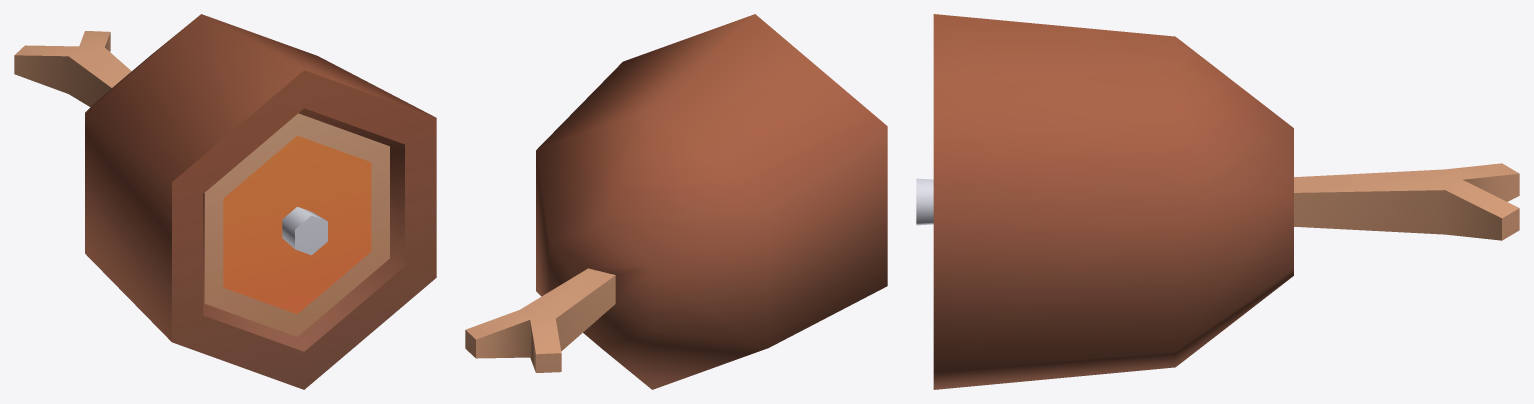
Rendered from kenney-food-whole-ham.glb.
3 views of the same model, side by side, from view 1: azimuth 30°, elevation 25°; view 2: azimuth 150°, elevation 25°; view 3: azimuth 270°, elevation 25° (orthographic). The views are drawn at different scales.
Parts seen in each view (by area): view 1: whole-ham; view 2: whole-ham; view 3: whole-ham.
Boxes of the visible parts, bbox=[...] form: whole-ham: bbox=[14, 14, 436, 389]; whole-ham: bbox=[465, 14, 887, 389]; whole-ham: bbox=[916, 14, 1519, 389].
Size of the model in its own units: 0.381 by 0.4399 by 0.6397.
Materials: 1 (1 with a texture image).
